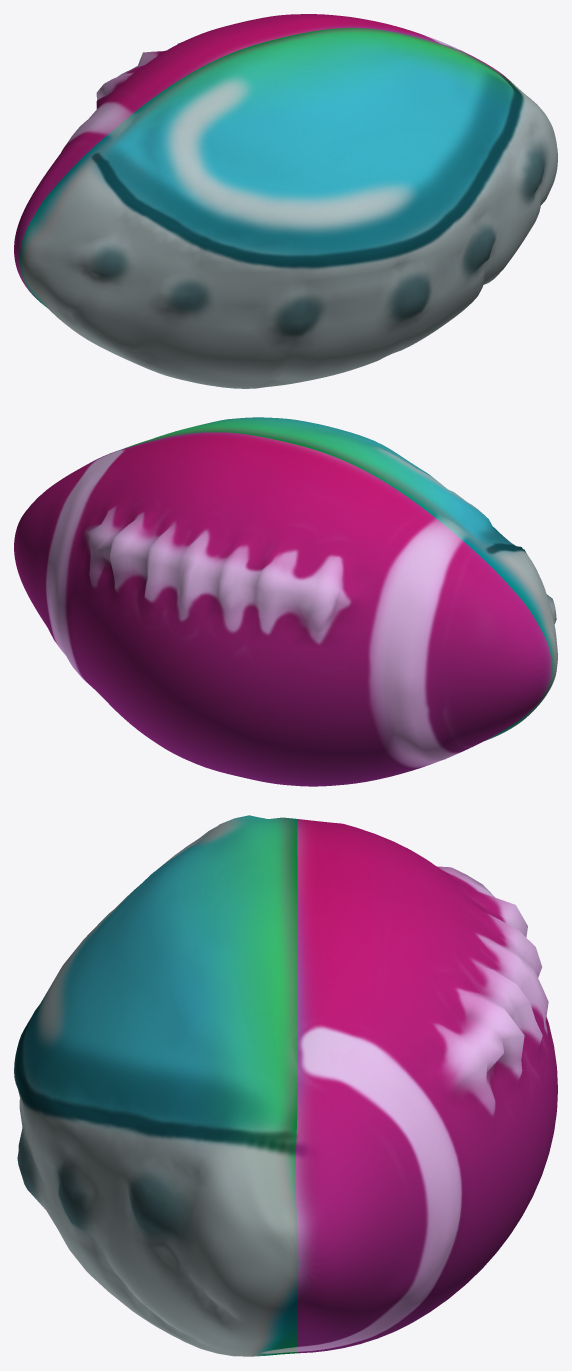
File: football_ufo_done1.fbx
3 renders of one model, top to bottom at view 1: azimuth 30°, elevation 25°; view 2: azimuth 150°, elevation 25°; view 3: azimuth 270°, elevation 25°, orthographic. The views are drawn at different scales.
Parts seen in each view (by area): view 1: pSphere1; view 2: pSphere1; view 3: pSphere1.
Boxes of the visible parts, <box> form: pSphere1: <box>14,14,557,388</box>; pSphere1: <box>14,417,557,786</box>; pSphere1: <box>14,815,557,1356</box>.
Bounding box in the file's own units: 17.94 × 10.49 × 11.61.
